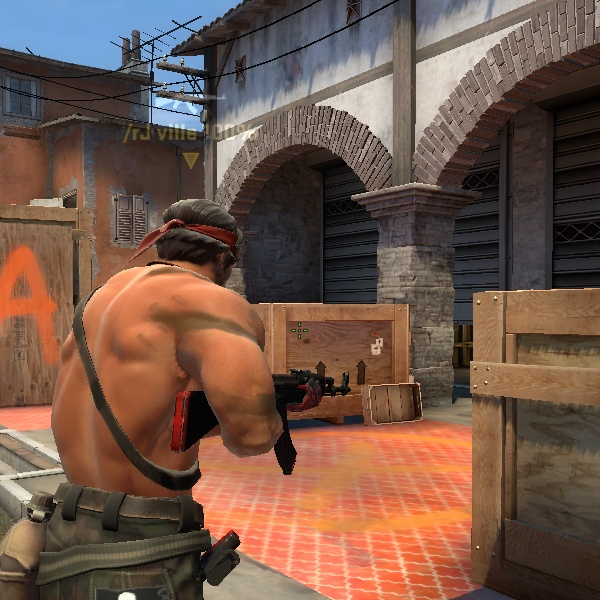t_body: (6, 208, 386, 597)
t_head: (139, 188, 256, 291)
